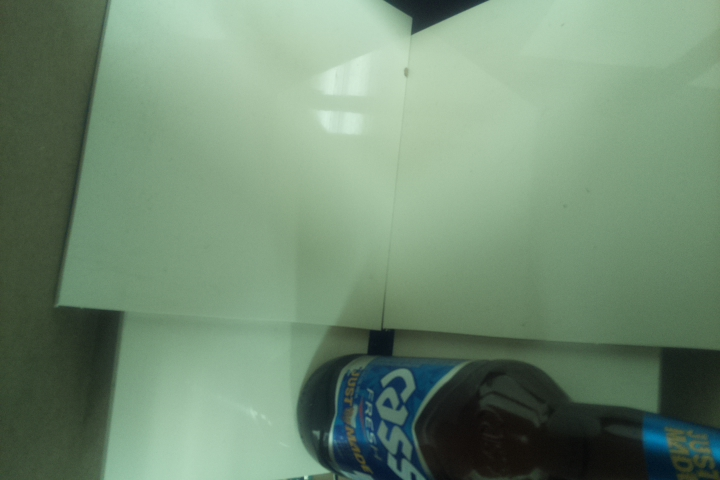makju: (295, 352, 716, 480)
